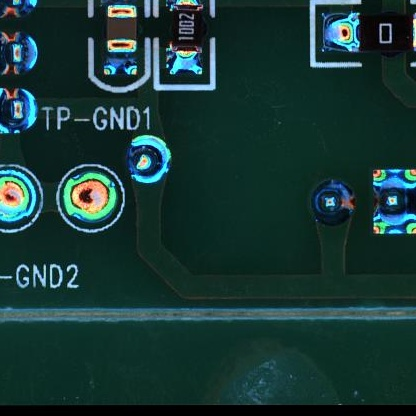spot: (64, 170, 116, 227), (372, 169, 416, 236), (123, 134, 174, 185), (308, 179, 356, 226), (1, 169, 36, 224)
